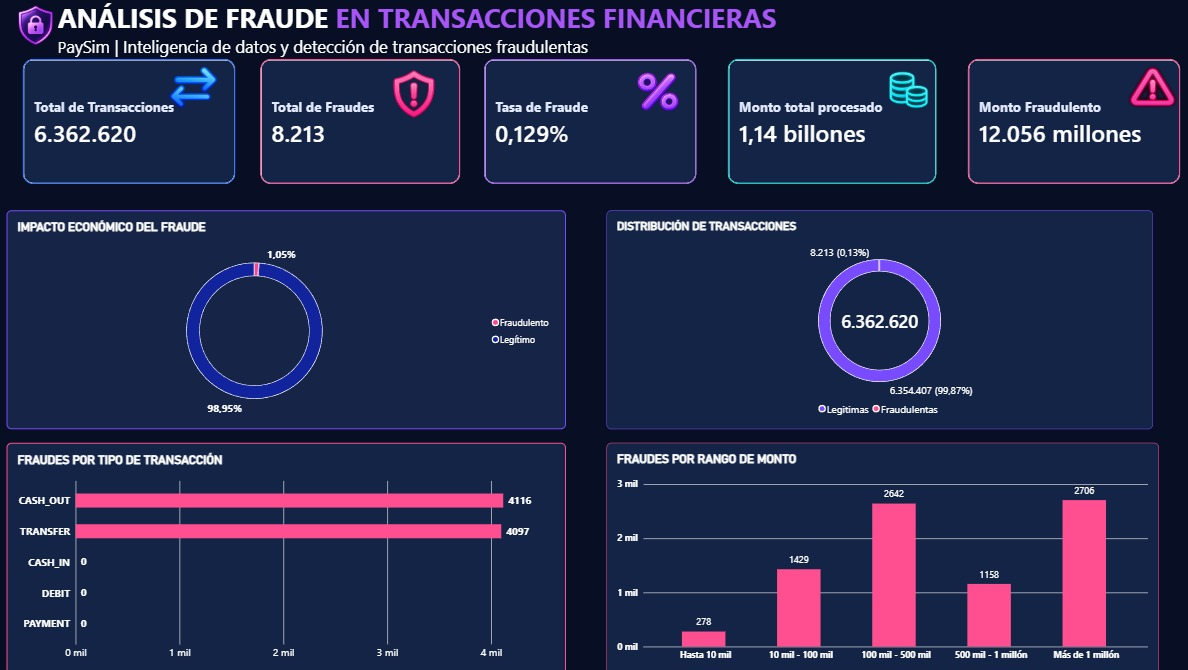

The dashboard page shown, as its layout file describes it:
{"tool":"powerbi","page":{"name":"01-Resumen Ejecutivo","canvas":[1920,1080],"ordinal":0},"visuals":[{"type":"textbox","box":[101.6,0,1338.7,121],"z":0},{"type":"cardVisual","fields":{"Data":["indicadores_generales.Total Transacciones Visible"]},"box":[46,96,340,200],"z":1000},{"type":"cardVisual","fields":{"Data":["indicadores_generales.Total Fraudes Visible"]},"box":[426,96,320,200],"z":2000},{"type":"cardVisual","fields":{"Data":["indicadores_generales.Tasa Fraude Visible"]},"box":[784,96,340,200],"z":3000},{"type":"cardVisual","fields":{"Data":["indicadores_generales.Monto Total Visible"]},"box":[1174,96,334,200],"z":4000},{"type":"cardVisual","fields":{"Data":["distribucion_transacciones.Monto Fraudulento Formateado"]},"box":[1558,96,340,200],"z":5000},{"type":"clusteredBarChart","title":"FRAUDES POR TIPO DE TRANSACCIÓN","fields":{"Category":["fraude_por_tipo.tipo_transaccion"],"Y":["Sum(fraude_por_tipo.total_fraudes)"]},"box":[21,709.7,895,370],"z":6000},{"type":"donutChart","title":"IMPACTO ECONÓMICO DEL FRAUDE","fields":{"Y":["distribucion_transacciones.Monto Fraudulento Grafico","distribucion_transacciones.Monto Legítimo"]},"box":[21,337.1,895.2,350],"z":7000},{"type":"donutChart","title":"DISTRIBUCIÓN DE TRANSACCIONES","fields":{"Category":["distribucion_transacciones.Tipo"],"Y":["Sum(distribucion_transacciones.Cantidad)"]},"box":[979,337.1,874.2,350],"z":8000},{"type":"clusteredColumnChart","title":"FRAUDES POR RANGO DE MONTO","fields":{"Category":["fraude_por_rango.rango_monto"],"Y":["Sum(fraude_por_rango.total_fraudes)"]},"box":[979,709.7,883.9,371],"z":9000},{"type":"image","box":[0,0,132.3,83.9],"z":10000},{"type":"image","box":[252,96,134,82],"z":11000},{"type":"image","box":[616,106,112,90],"z":12000},{"type":"image","box":[1014,106,94,82],"z":13000},{"type":"image","box":[1416,100,92,88],"z":14000},{"type":"image","box":[1802,102,104,76],"z":15000}]}

Visuals, with their boxes in screenshot pixels (x1, y1, x2, y2), scaled from the page's 1920x1080 canvas onto the 1188x670 screenshot:
textbox: <box>63,0,891,75</box>
cardVisual - indicadores_generales.Total Transacciones Visible: <box>28,60,239,184</box>
cardVisual - indicadores_generales.Total Fraudes Visible: <box>264,60,462,184</box>
cardVisual - indicadores_generales.Tasa Fraude Visible: <box>485,60,695,184</box>
cardVisual - indicadores_generales.Monto Total Visible: <box>726,60,933,184</box>
cardVisual - distribucion_transacciones.Monto Fraudulento Formateado: <box>964,60,1174,184</box>
"FRAUDES POR TIPO DE TRANSACCIÓN" clusteredBarChart: <box>13,440,567,669</box>
"IMPACTO ECONÓMICO DEL FRAUDE" donutChart: <box>13,209,567,426</box>
"DISTRIBUCIÓN DE TRANSACCIONES" donutChart: <box>606,209,1147,426</box>
"FRAUDES POR RANGO DE MONTO" clusteredColumnChart: <box>606,440,1153,669</box>
image: <box>0,0,82,52</box>
image: <box>156,60,239,110</box>
image: <box>381,66,450,122</box>
image: <box>627,66,686,117</box>
image: <box>876,62,933,117</box>
image: <box>1115,63,1179,110</box>
